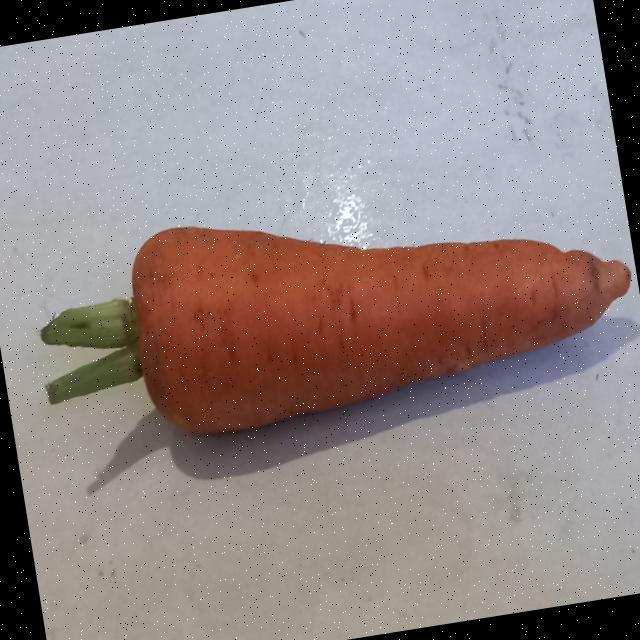carrot: (132, 227, 631, 434)
